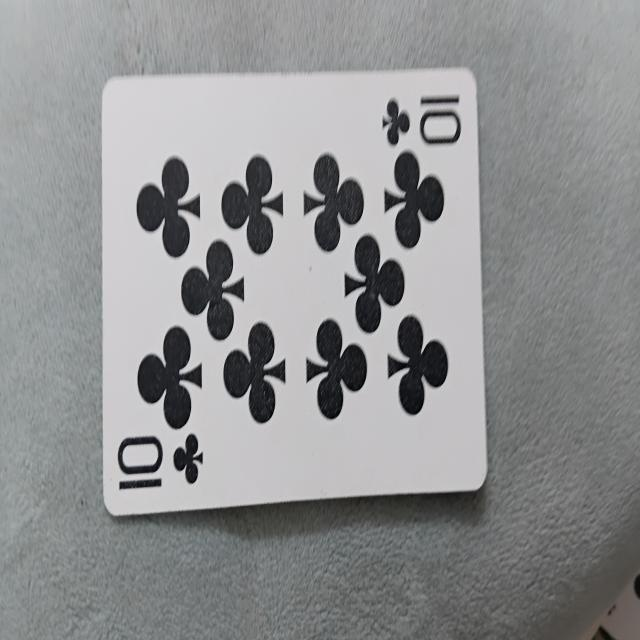10C: (100, 68, 488, 517)
